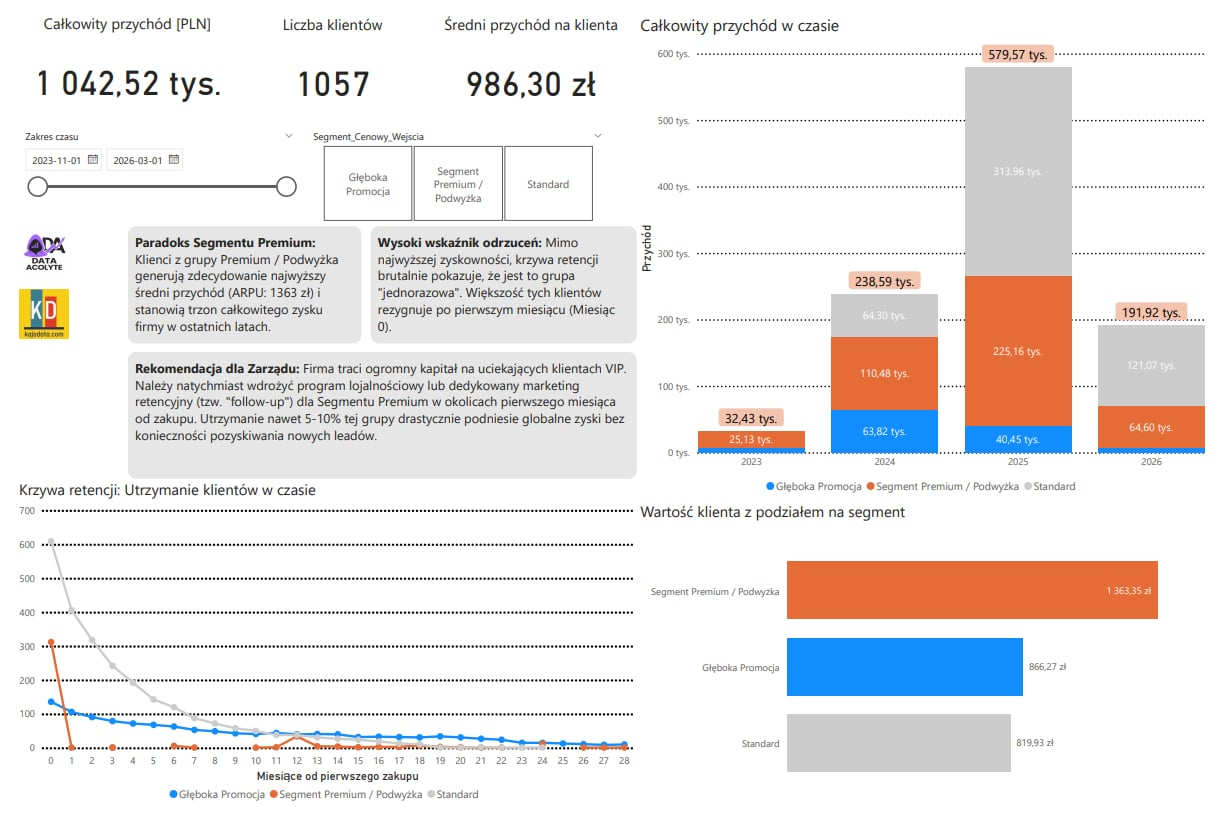

What the dashboard file says about the page in this screenshot:
{"tool":"powerbi","page":{"name":"Strona 1","canvas":[1500,1000],"ordinal":0},"visuals":[{"type":"slicer","fields":{"Values":["KDS_Do_PowerBI.Segment_Cenowy_Wejscia"]},"box":[362,141.9,388.5,126],"z":0},{"type":"columnChart","title":"Całkowity przychód w czasie","fields":{"Category":["KDS_Do_PowerBI.Miesiac_Rok.Odmiana.Hierarchia dat.Rok","KDS_Do_PowerBI.Miesiac_Rok.Odmiana.Hierarchia dat.Kwartał","KDS_Do_PowerBI.Miesiac_Rok.Odmiana.Hierarchia dat.Miesiąc","KDS_Do_PowerBI.Miesiac_Rok.Odmiana.Hierarchia dat.Dzień"],"Y":["KDS_Do_PowerBI.Total Revenue"],"Series":["KDS_Do_PowerBI.Segment_Cenowy_Wejscia"]},"box":[781,0,718.7,612.6],"z":1000},{"type":"slicer","title":"Zakres czasu","fields":{"Values":["KDS_Do_PowerBI.Miesiac_Kohorty"]},"box":[0,141.9,362,126],"z":2000},{"type":"image","box":[0,340.8,71.6,74.3],"z":3000},{"type":"image","box":[1.3,249.3,71.6,102.1],"z":4000},{"type":"clusteredBarChart","title":"Wartość klienta z podziałem na segment","fields":{"Category":["KDS_Do_PowerBI.Segment_Cenowy_Wejscia"],"Y":["KDS_Do_PowerBI.ARPU"]},"box":[781,612.6,718.7,387.2],"z":5000},{"type":"lineChart","title":"Krzywa retencji: Utrzymanie klientów w czasie","fields":{"Y":["KDS_Do_PowerBI.Unique Customers"],"Category":["KDS_Do_PowerBI.Miesiace_Od_Dolaczenia"],"Series":["KDS_Do_PowerBI.Segment_Cenowy_Wejscia"]},"box":[0,584.7,781,415],"z":6000},{"type":"card","title":"Całkowity przychód [PLN]","fields":{"Values":["KDS_Do_PowerBI.Total Revenue"]},"box":[1.3,0,281.1,141.9],"z":6001},{"type":"card","title":"Średni przychód na klienta","fields":{"Values":["KDS_Do_PowerBI.ARPU"]},"box":[515.8,1.3,265.2,141.9],"z":6004},{"type":"card","title":"Liczba klientów","fields":{"Values":["KDS_Do_PowerBI.Unique Customers"]},"box":[282.4,1.3,233.4,141.9],"z":6005},{"type":"textbox","box":[141.9,267.8,293,147.2],"z":6006},{"type":"textbox","box":[446.8,267.8,334.1,147.2],"z":6007},{"type":"textbox","box":[141.9,425.6,639.1,159.1],"z":6008}]}

Visuals, with their boxes in screenshot pixels (x1, y1, x2, y2), scaled from the page's 1500x1000 canvas onto the 1219x814 screenshot:
slicer - KDS_Do_PowerBI.Segment_Cenowy_Wejscia: box(294, 116, 610, 218)
"Całkowity przychód w czasie" columnChart: box(635, 0, 1218, 499)
"Zakres czasu" slicer: box(0, 116, 294, 218)
image: box(0, 277, 58, 338)
image: box(1, 203, 59, 286)
"Wartość klienta z podziałem na segment" clusteredBarChart: box(635, 499, 1218, 813)
"Krzywa retencji: Utrzymanie klientów w czasie" lineChart: box(0, 476, 635, 813)
"Całkowity przychód [PLN]" card: box(1, 0, 229, 116)
"Średni przychód na klienta" card: box(419, 1, 635, 117)
"Liczba klientów" card: box(229, 1, 419, 117)
textbox: box(115, 218, 353, 338)
textbox: box(363, 218, 635, 338)
textbox: box(115, 346, 635, 476)
